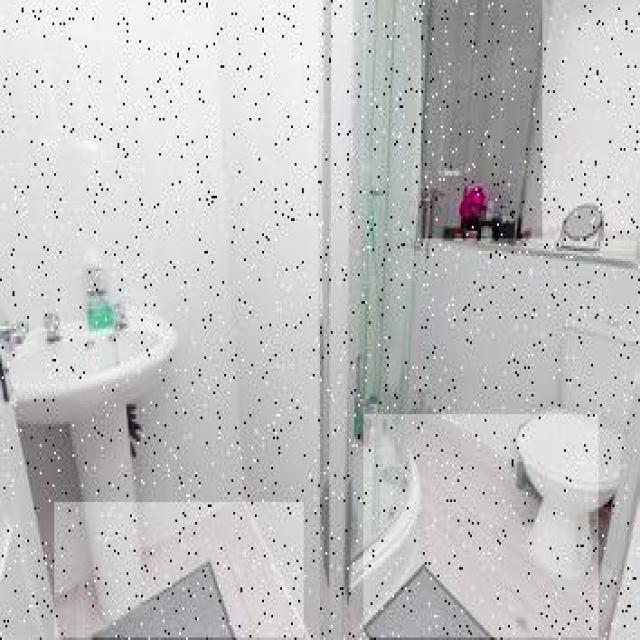Wall: (0, 2, 324, 635), (365, 415, 598, 639), (414, 242, 638, 464), (56, 502, 304, 637), (422, 0, 542, 238), (23, 428, 92, 595)
